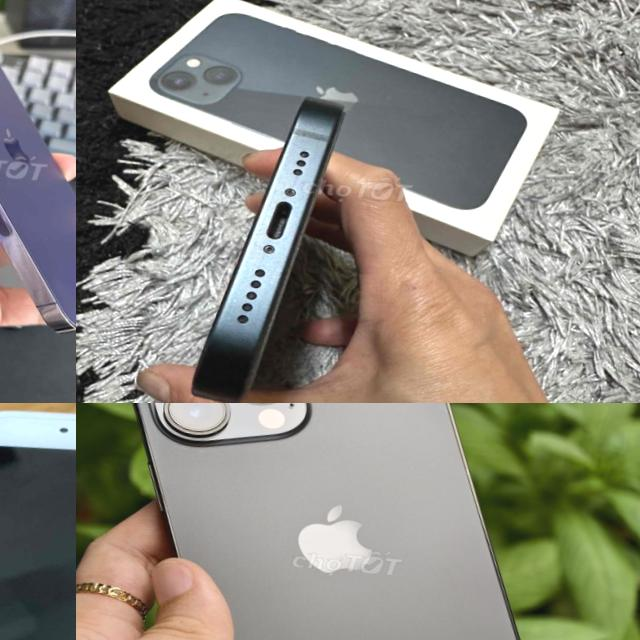gen_12_13: (175, 72, 359, 403)
gen_14: (86, 403, 594, 640), (0, 0, 76, 356)
gen_7_8: (0, 403, 76, 640)
